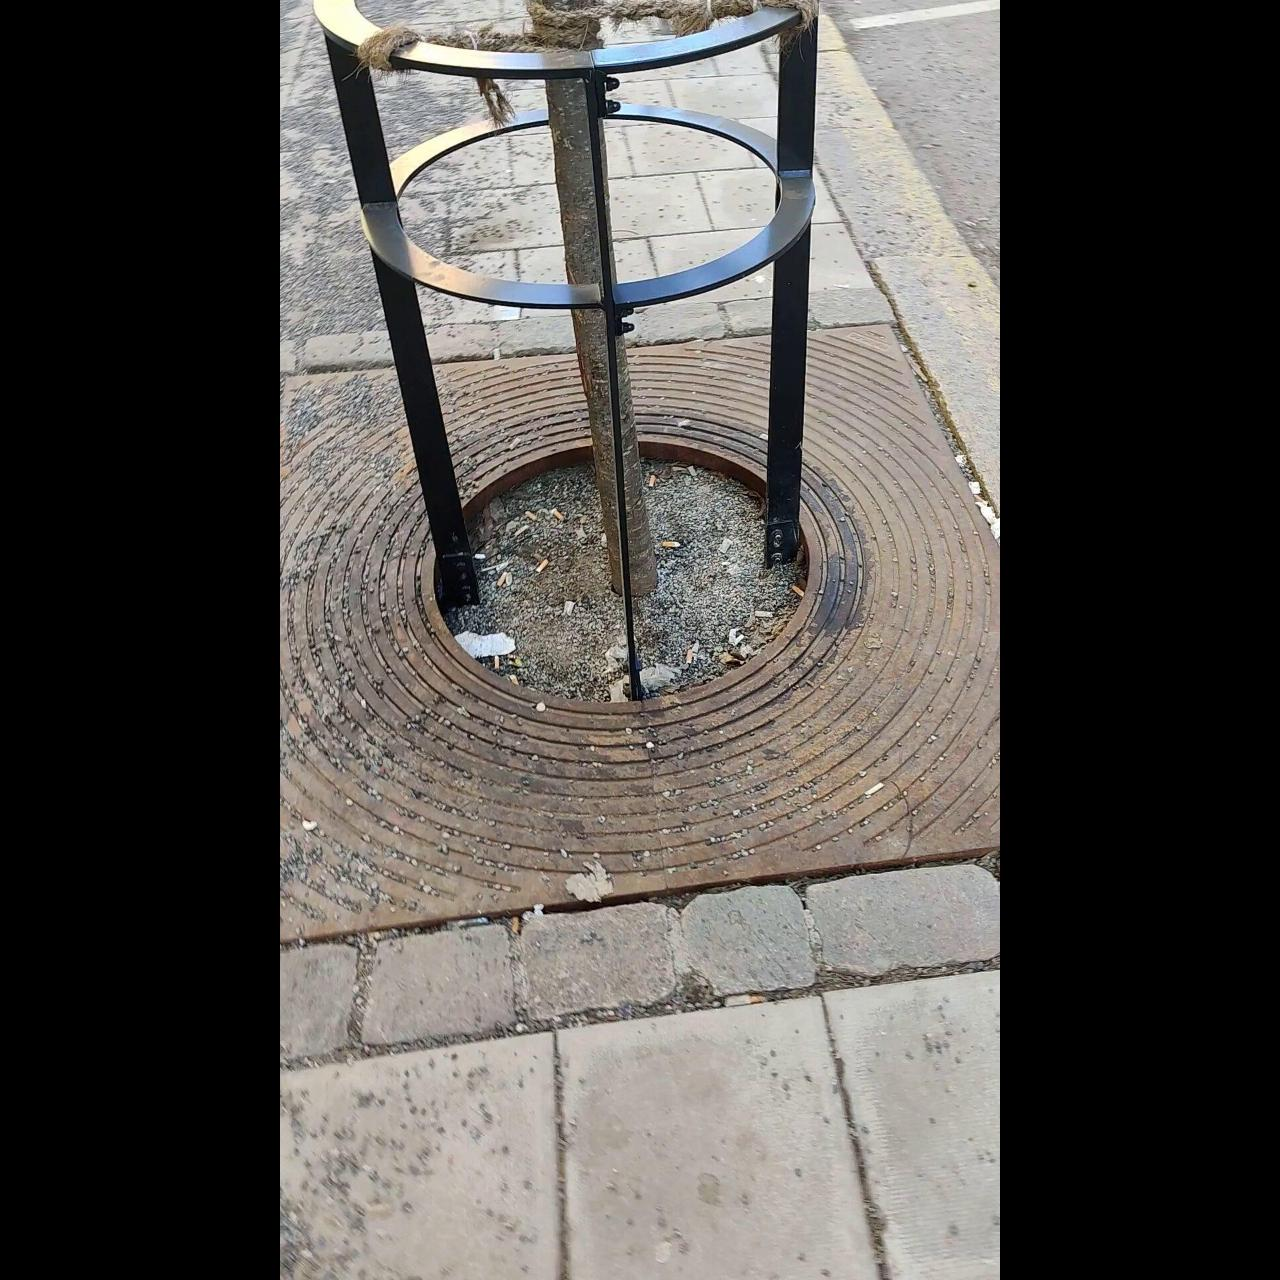cigarettes_butts: (663, 539, 683, 553), (790, 580, 805, 598), (747, 994, 765, 1007), (865, 783, 883, 796), (496, 571, 506, 590), (646, 474, 658, 489), (536, 558, 546, 574), (685, 647, 694, 663), (550, 508, 561, 520), (522, 511, 536, 522), (491, 655, 499, 670), (509, 674, 519, 685)
others: (492, 350, 502, 363)
